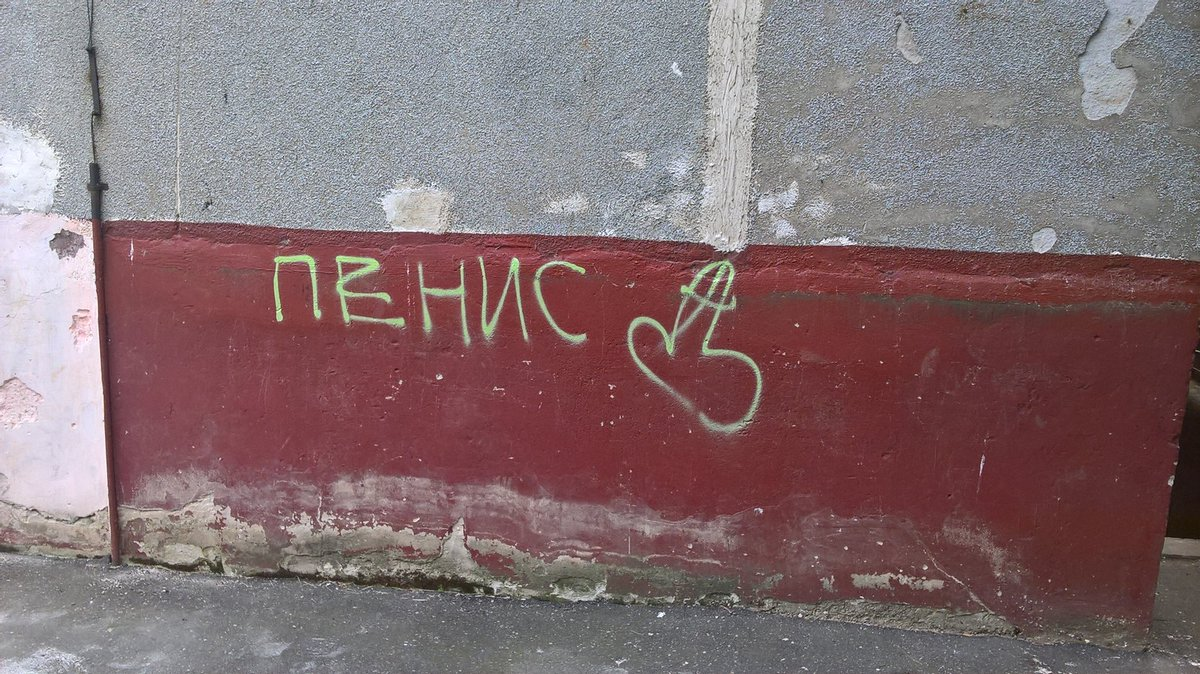graphite: (265, 238, 605, 372), (623, 242, 775, 448)
